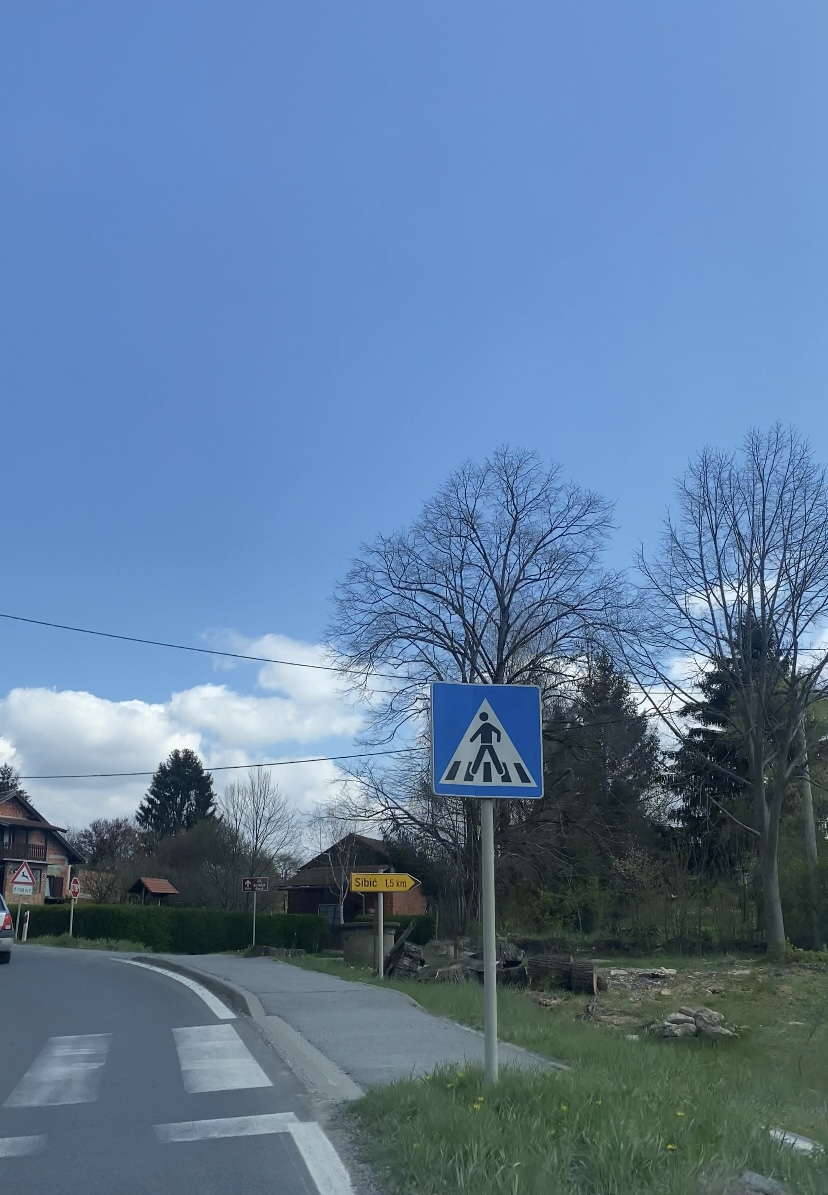Pješački prijelaz: (432, 683, 544, 798)
